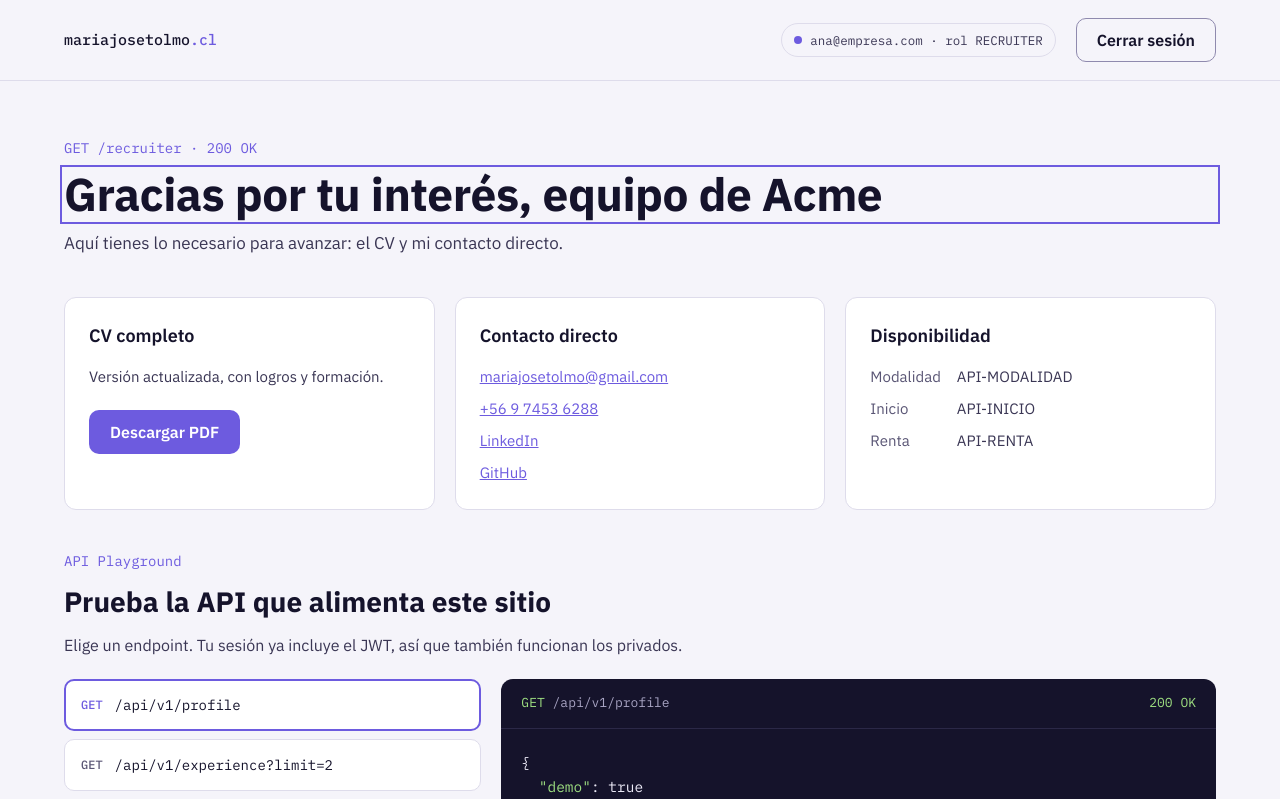
Test: RecruiterZone CV download › keeps focus on the download button and announces progress
The image size is (1280, 799).
Expected: the heading "Gracias por tu interés, equipo de Acme" is shown, top-left (64, 164), bottom-right (882, 224)
Click the button "Descargar PDF": coordinates (165, 432) top-left (89, 410), bottom-right (240, 454)
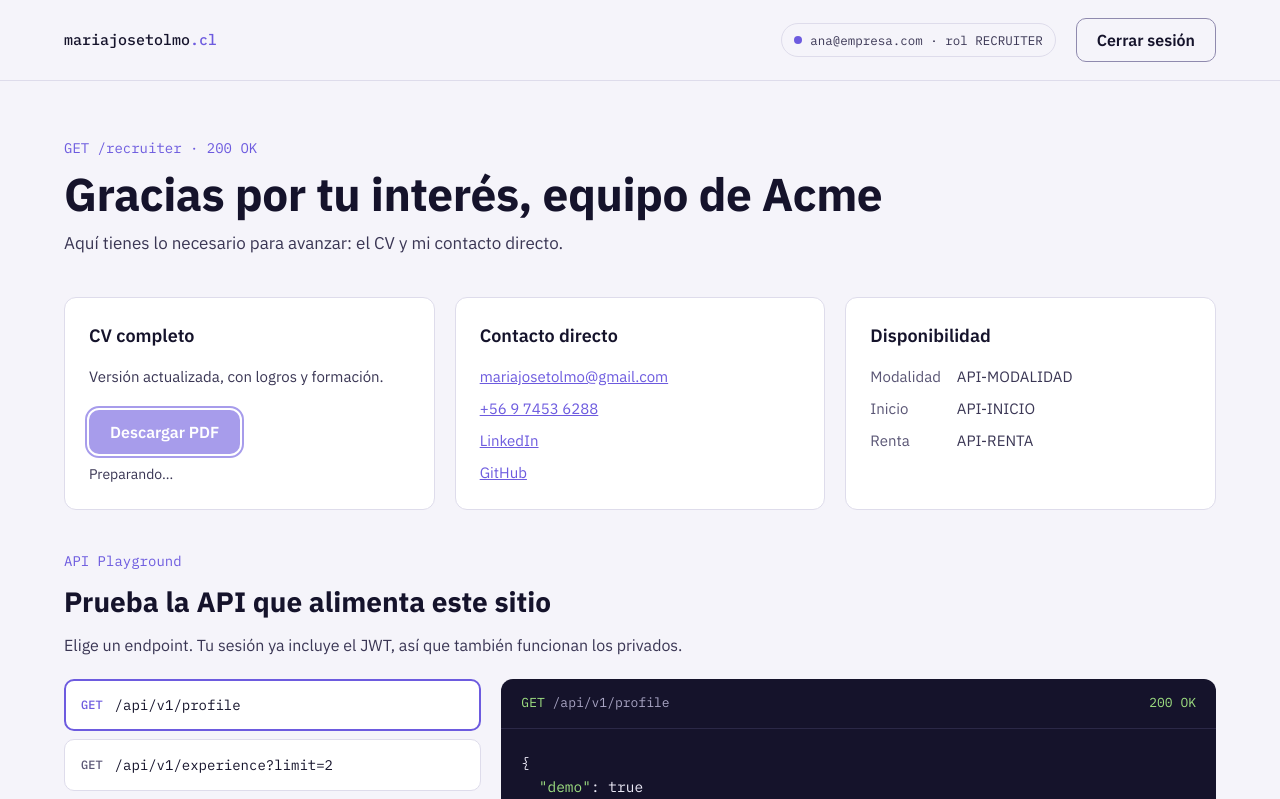
Expected: the message reads "Preparando…", top-left (89, 465), bottom-right (173, 483)
